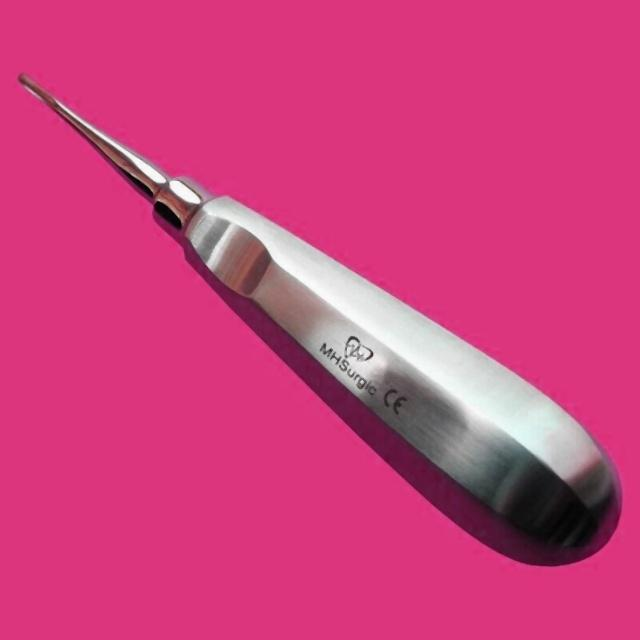botador: (18, 76, 624, 571)
